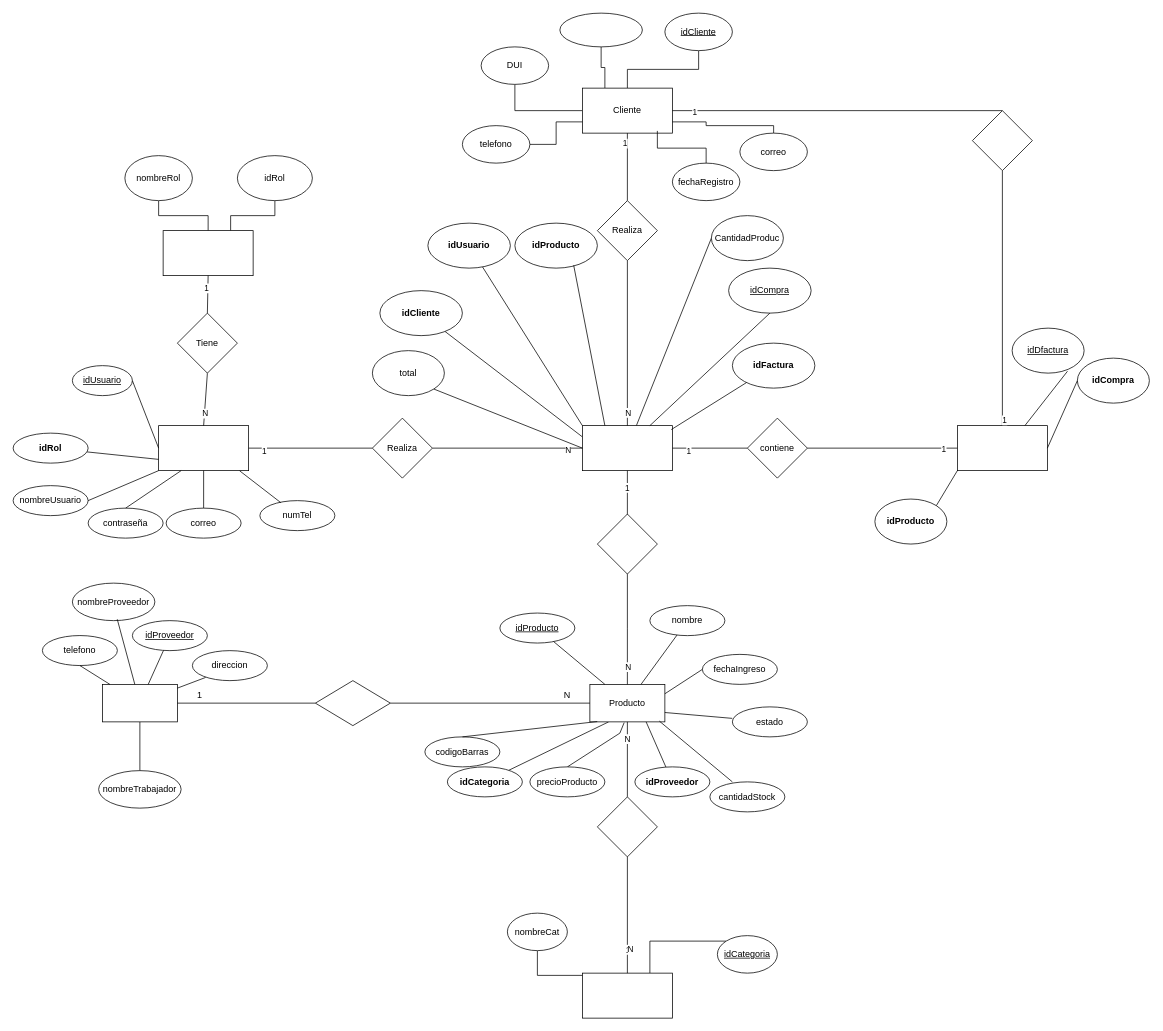
The diagram is 1163 pixels wide and 1031 high, and some of its shapes have lost their labels. Here are the shapes that lost their labels. From the top down, the box of each, then its label:
(559, 12, 642, 47): nombreCliente
(972, 110, 1032, 171): Obtiene
(162, 230, 253, 276): Rol
(158, 425, 249, 471): Usuario
(582, 425, 672, 471): Compra
(957, 425, 1047, 471): detalleFactura
(597, 513, 657, 574): incluye
(102, 684, 177, 722): Proveedor
(315, 680, 390, 726): Suministra
(597, 796, 657, 857): Pertenece
(582, 972, 672, 1018): Categoria
